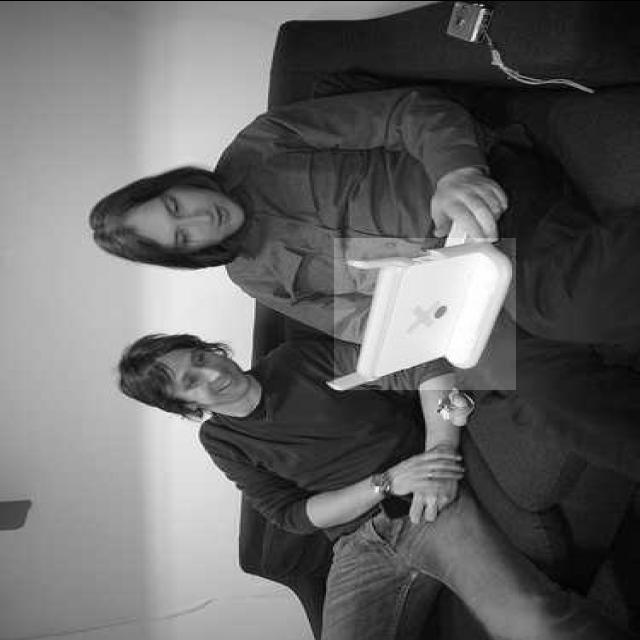-keyboard-: (334, 238, 516, 390)
